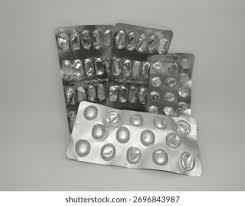pill_Strip: (56, 27, 200, 175), (55, 23, 190, 119), (55, 25, 149, 130), (67, 101, 200, 175), (61, 53, 193, 115), (55, 25, 113, 131), (106, 23, 172, 110), (61, 57, 149, 113), (55, 23, 172, 62), (55, 23, 172, 59), (64, 82, 146, 131), (64, 58, 149, 104), (61, 57, 109, 131), (55, 25, 113, 81), (147, 53, 193, 115), (55, 25, 116, 71), (64, 58, 149, 89), (106, 57, 149, 110), (64, 79, 107, 131), (112, 23, 172, 60), (55, 25, 113, 55), (60, 56, 109, 84), (105, 82, 147, 110), (64, 78, 107, 104), (109, 57, 150, 83), (64, 86, 78, 132), (60, 59, 83, 81), (56, 29, 69, 50), (66, 107, 76, 131), (64, 86, 76, 104)
